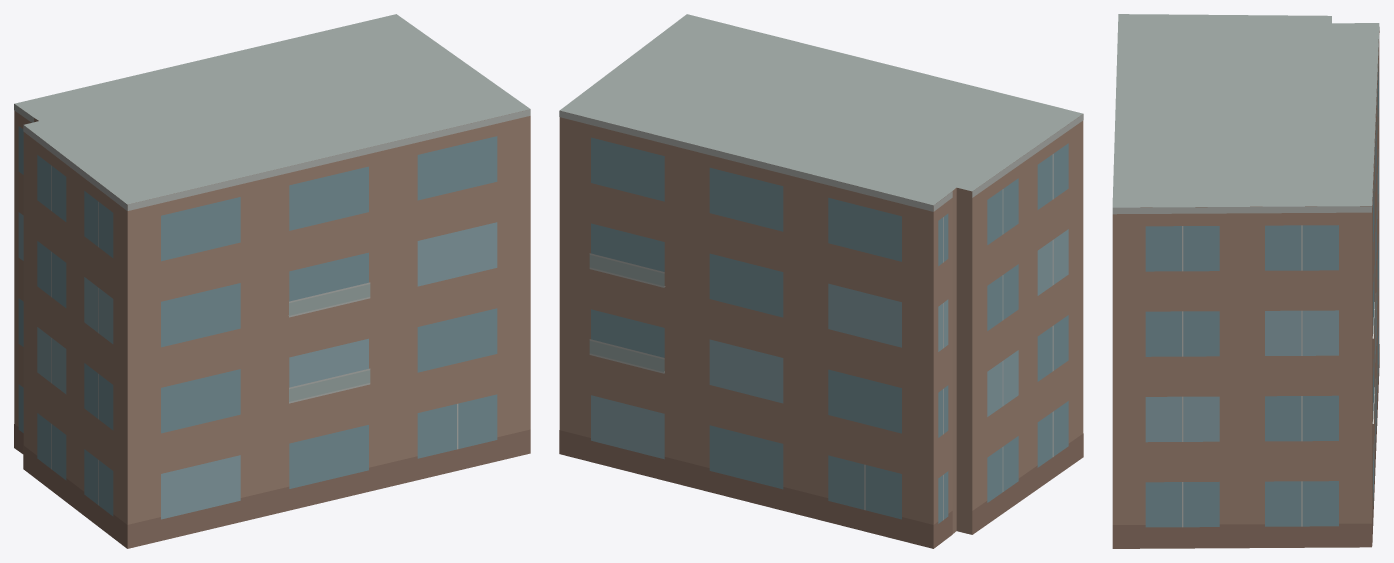
Rendered from survey-upis-32583348.glb.
The picture shows the model from 3 angles, left to right: view 1: azimuth 30°, elevation 25°; view 2: azimuth 150°, elevation 25°; view 3: azimuth 270°, elevation 25°; orthographic projection.
Visible parts, largest first — view 1: survey-upis-32583348.tmp; view 2: survey-upis-32583348.tmp; view 3: survey-upis-32583348.tmp.
Boxes of the visible parts, box(x1,y1,x2,y2) form: survey-upis-32583348.tmp: box(14, 14, 530, 548); survey-upis-32583348.tmp: box(559, 14, 1083, 548); survey-upis-32583348.tmp: box(1112, 14, 1379, 548).
Bounding box in the file's own units: 15.46 × 12.7 × 9.02.
